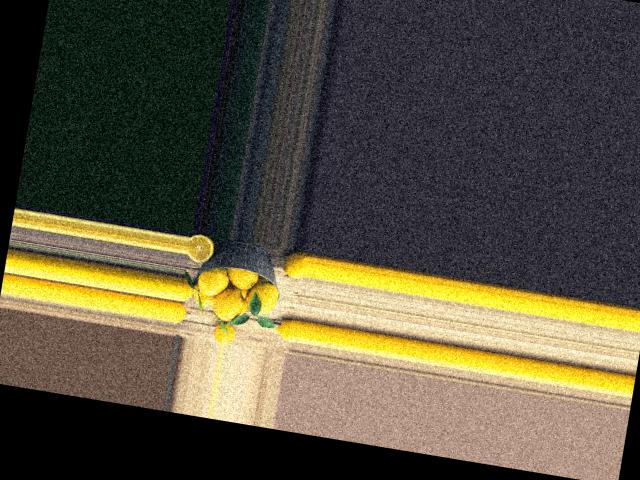lemon: (195, 256, 235, 298)
